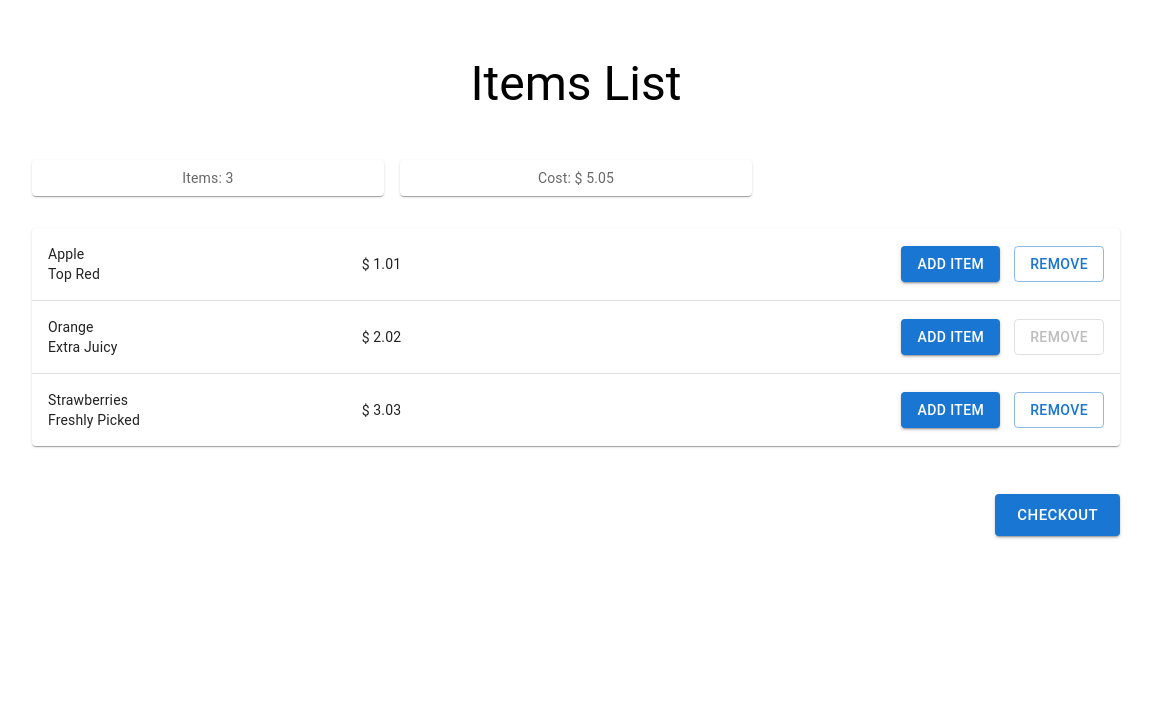
Test: Shopping Cart Tests › GIVEN user is on the 'items list page'          AND clicks add item on the second ADD item element         AND clicks on the checkout button         THEN orange
Click the button with test id "item-list-add-item-1" at x=952, y=338, box [902,319,1001,356]
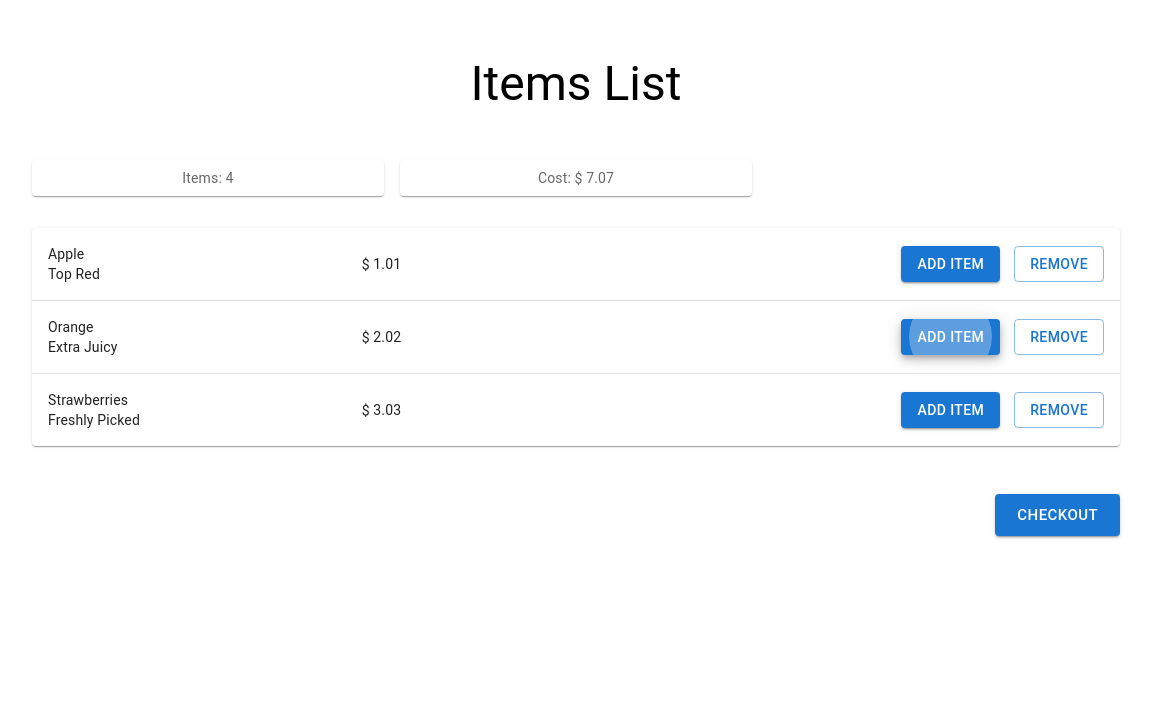
Click the button with test id "item-list-add-item-1" at x=952, y=338, box [902,319,1001,356]
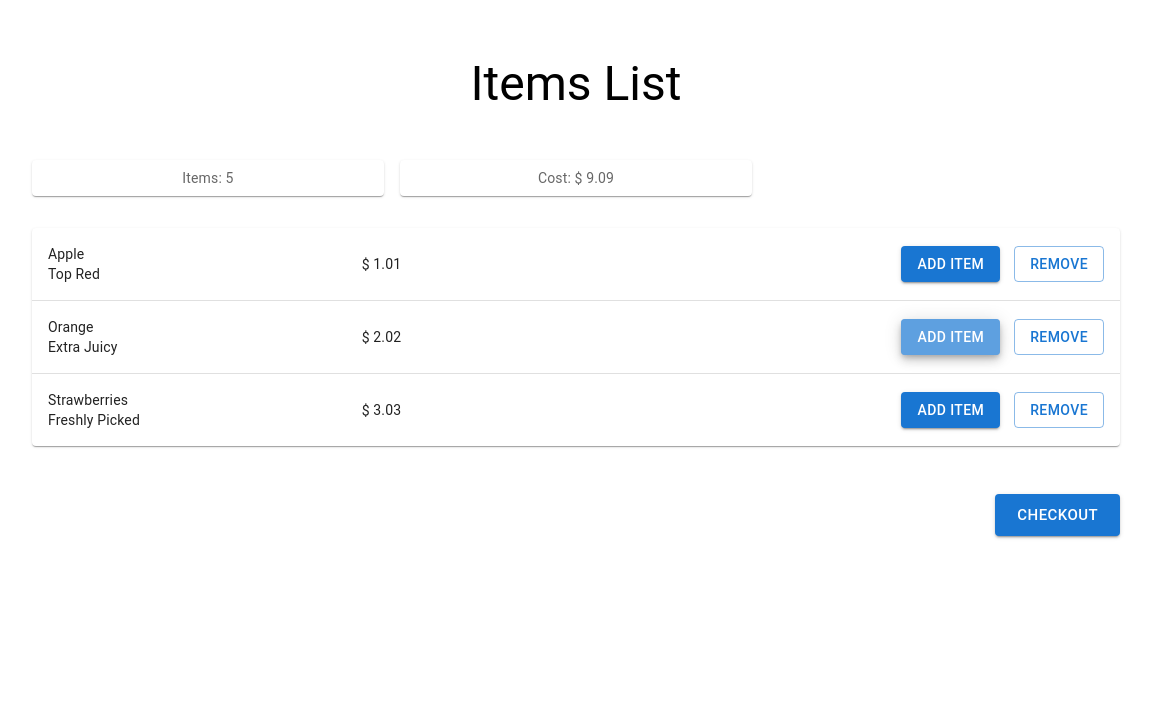
Result: the text with test id "item-list-total-cart-cost" reads "9.09" at [586,170,614,186]
Click the button with test id "item-list-checkout" at x=1058, y=515, box [995,494,1120,536]
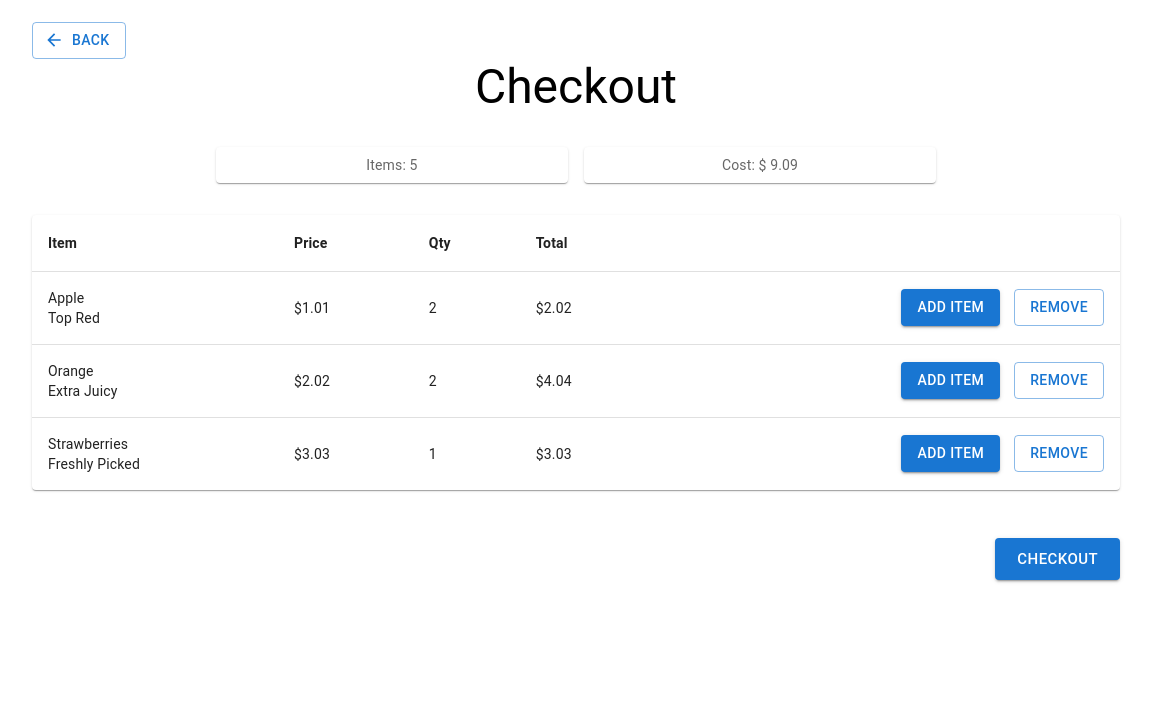
Result: the text with test id "checkout-page-total-items" reads "5" at [410,157,418,173]
Result: the text with test id "checkout-page-quantity-1" reads "2" at [429,373,437,389]
Result: the text with test id "checkout-page-total-cost-1" reads "4.04" at [544,373,572,389]
